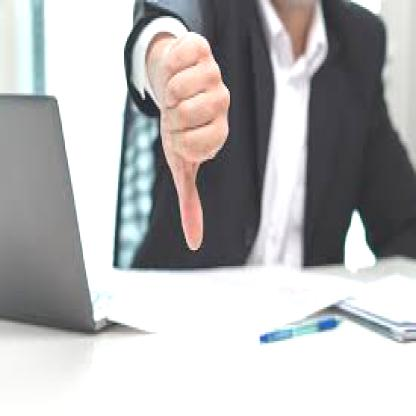Thumbs Down: (130, 29, 254, 251)
